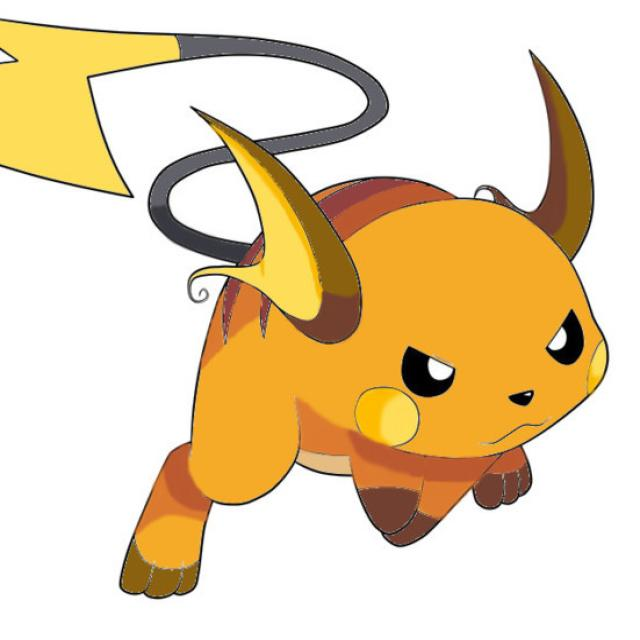Raichu: (100, 58, 597, 601)
